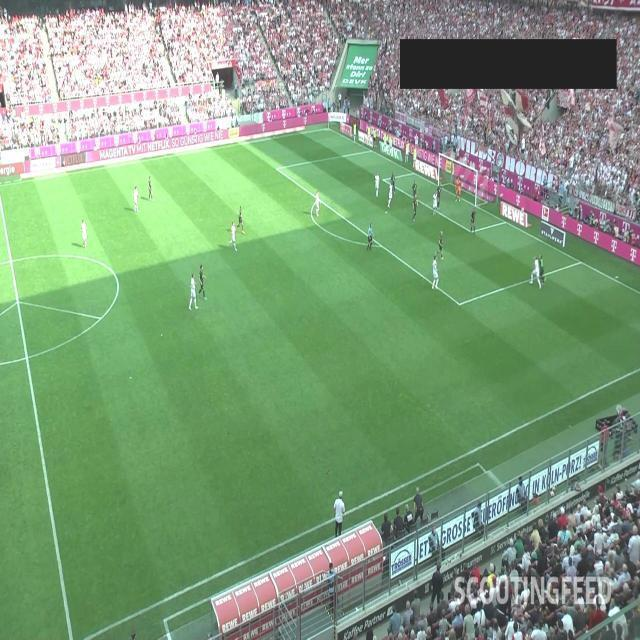Corner: (326, 112, 330, 130)
GoalKeeper: (455, 174, 463, 203)
Referee: (366, 222, 374, 250)
TEAM 1: (188, 272, 200, 310), (530, 256, 542, 288), (432, 253, 439, 290), (230, 221, 238, 251), (132, 185, 140, 212), (78, 219, 85, 249), (386, 181, 394, 207), (374, 171, 380, 199), (314, 190, 320, 217), (432, 192, 438, 216)
TEAM 2: (198, 264, 208, 302), (237, 205, 246, 235), (538, 253, 546, 284), (411, 180, 418, 210), (389, 170, 396, 198), (436, 180, 442, 210), (412, 193, 418, 223), (470, 208, 476, 236), (148, 176, 154, 201), (438, 232, 443, 260)
